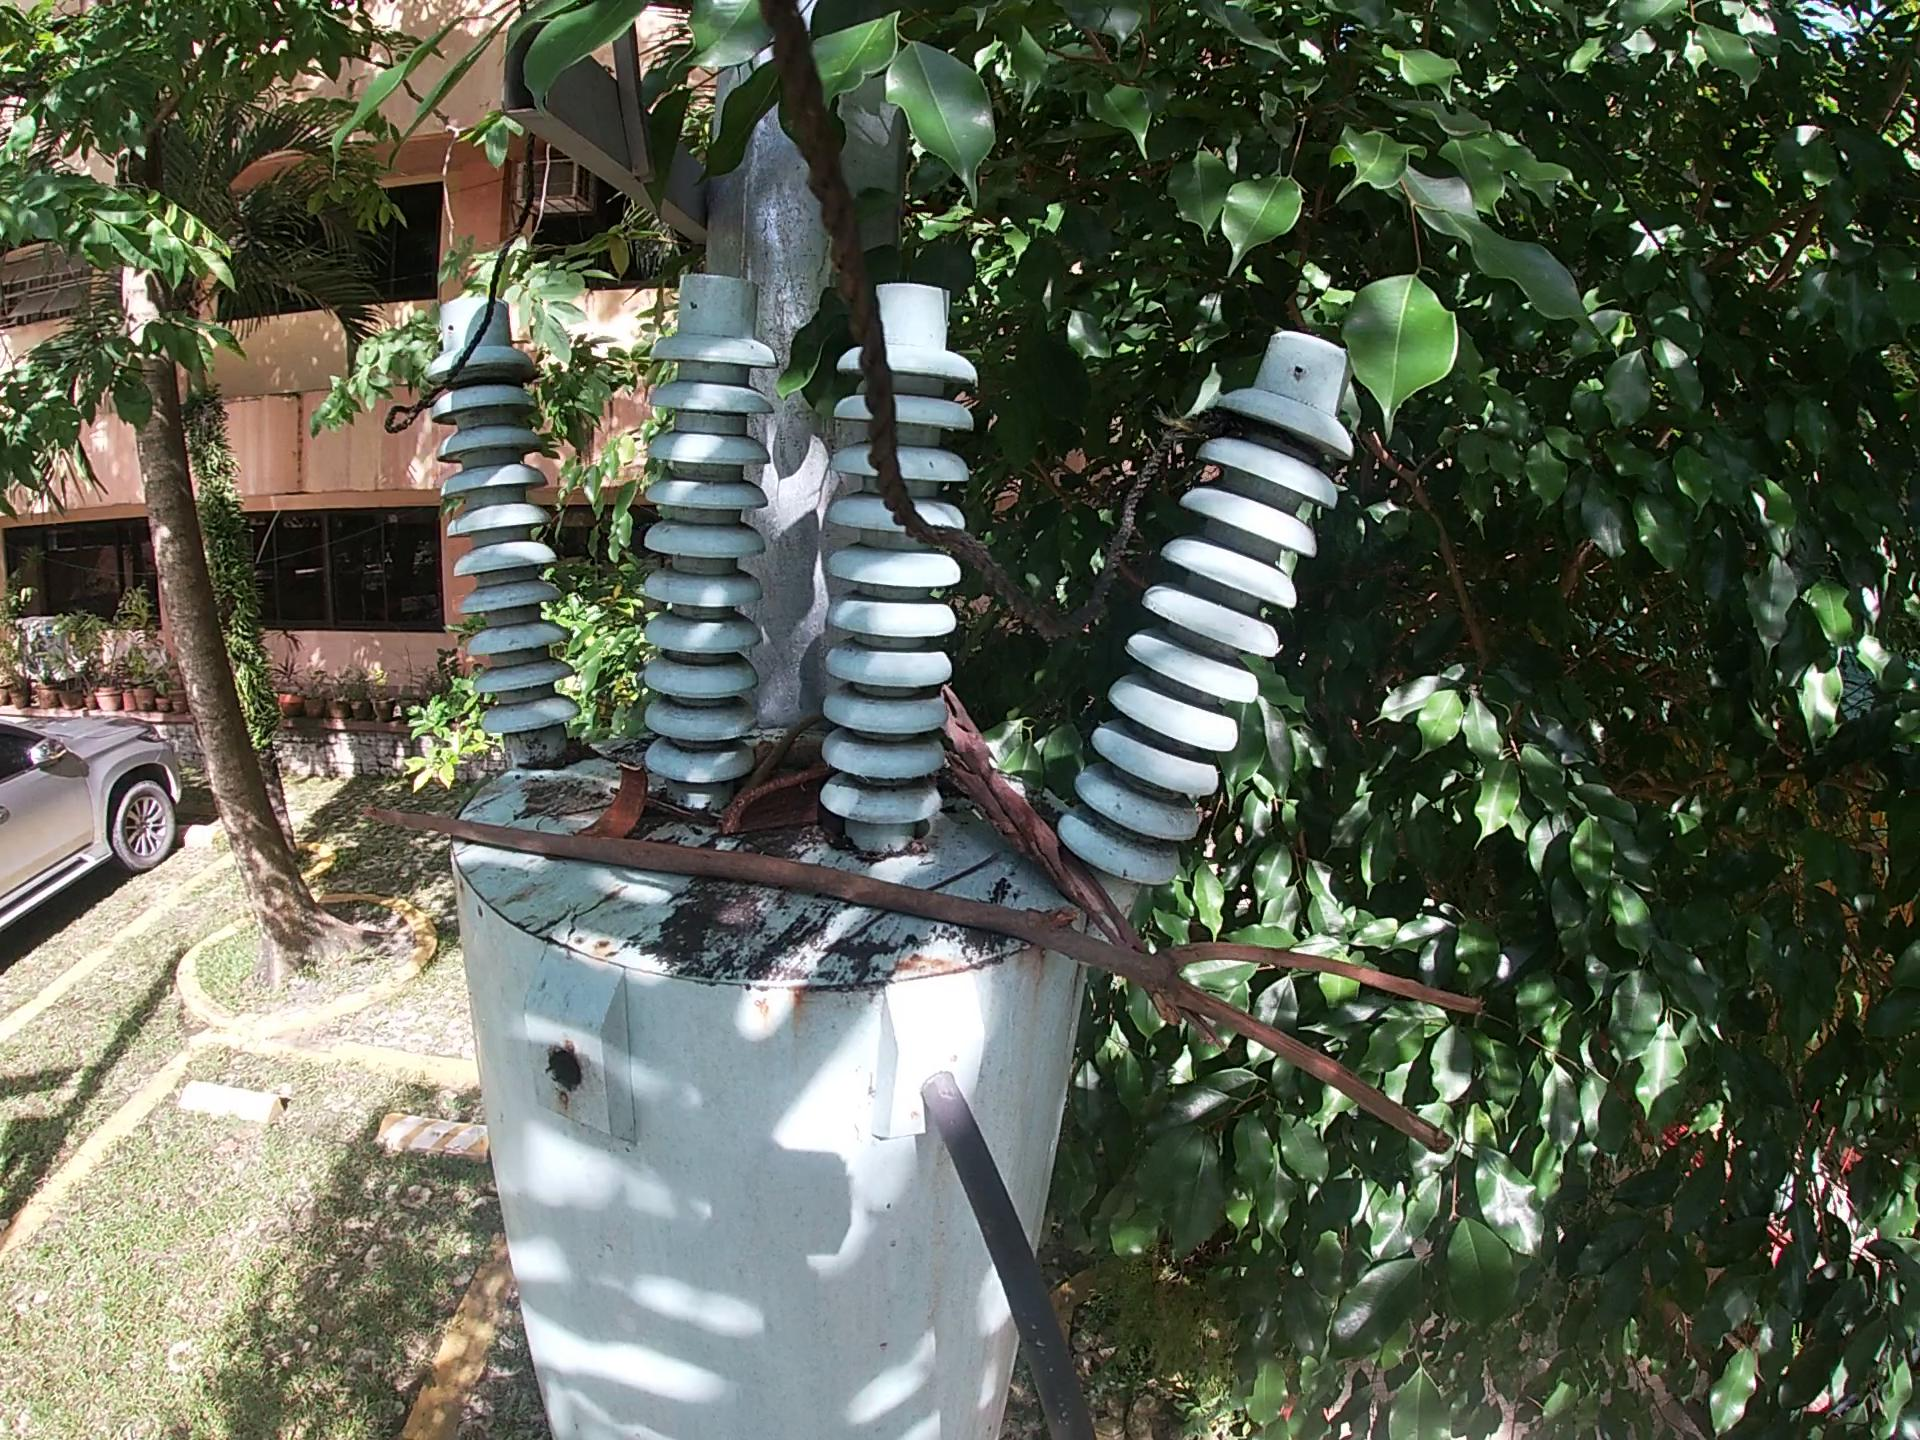mahogany fruit: (712, 762, 842, 843), (568, 756, 658, 846)
tree branch: (348, 796, 1491, 1166), (934, 672, 1226, 1054), (736, 708, 835, 797)
